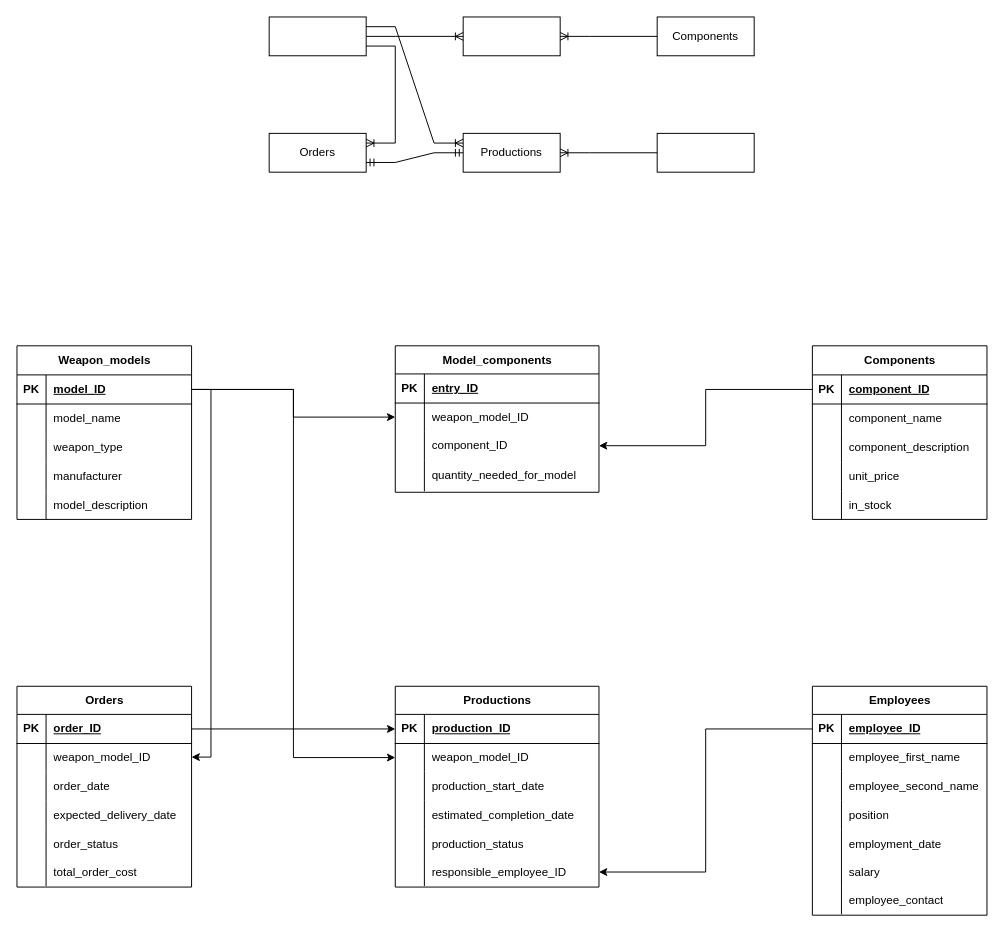
Image size: 1004x932. Some labels were removed from this diagram. The shapes that lost their labels are listed below. From the top down, each one's centre as x and y in pixels, then its label:
[317,36]: Weapon models
[511,36]: Model components
[705,152]: Employess
